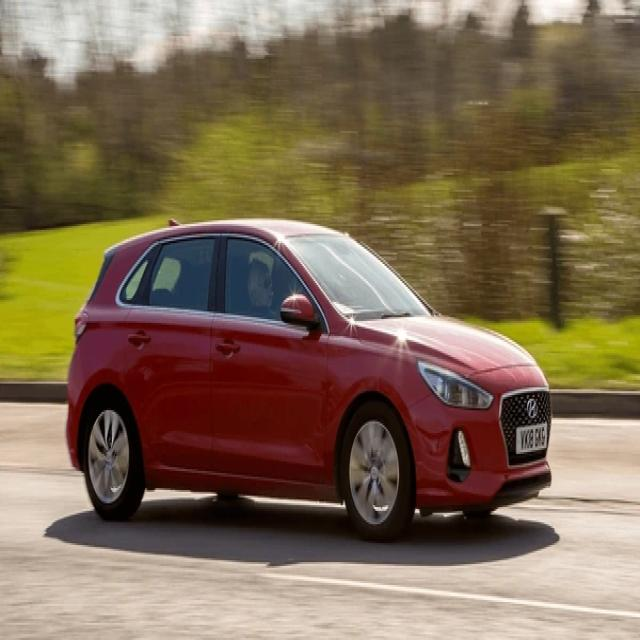hyundai: (524, 397, 542, 420)
